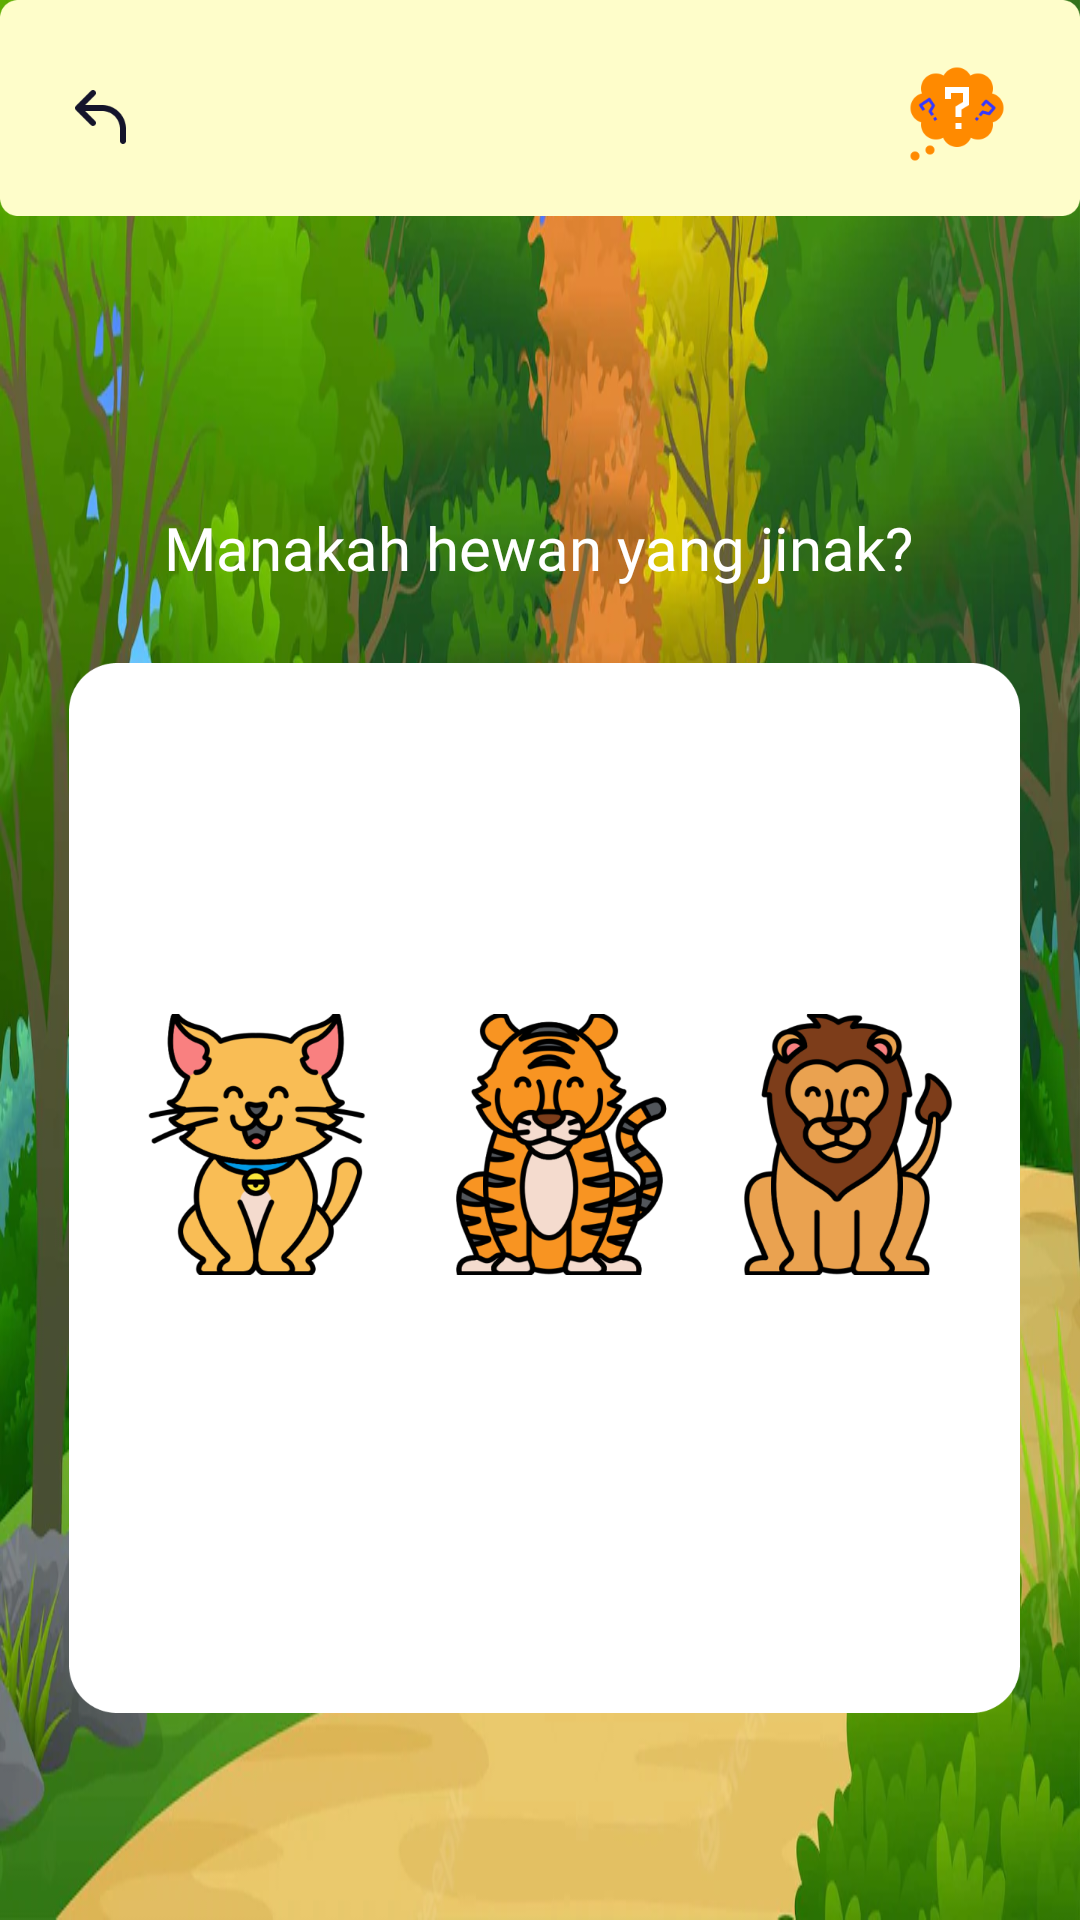

Icon bounding boxes for this 1080 × 1920 phone screenshot, format {"left": x1, "top": y1, "right": x2, "bottom": y2}:
back: {"left": 75, "top": 90, "right": 126, "bottom": 144}
harimau: {"left": 456, "top": 1014, "right": 667, "bottom": 1275}
help: {"left": 910, "top": 67, "right": 1004, "bottom": 161}
kucing: {"left": 148, "top": 1014, "right": 365, "bottom": 1275}
singa: {"left": 744, "top": 1014, "right": 952, "bottom": 1275}
